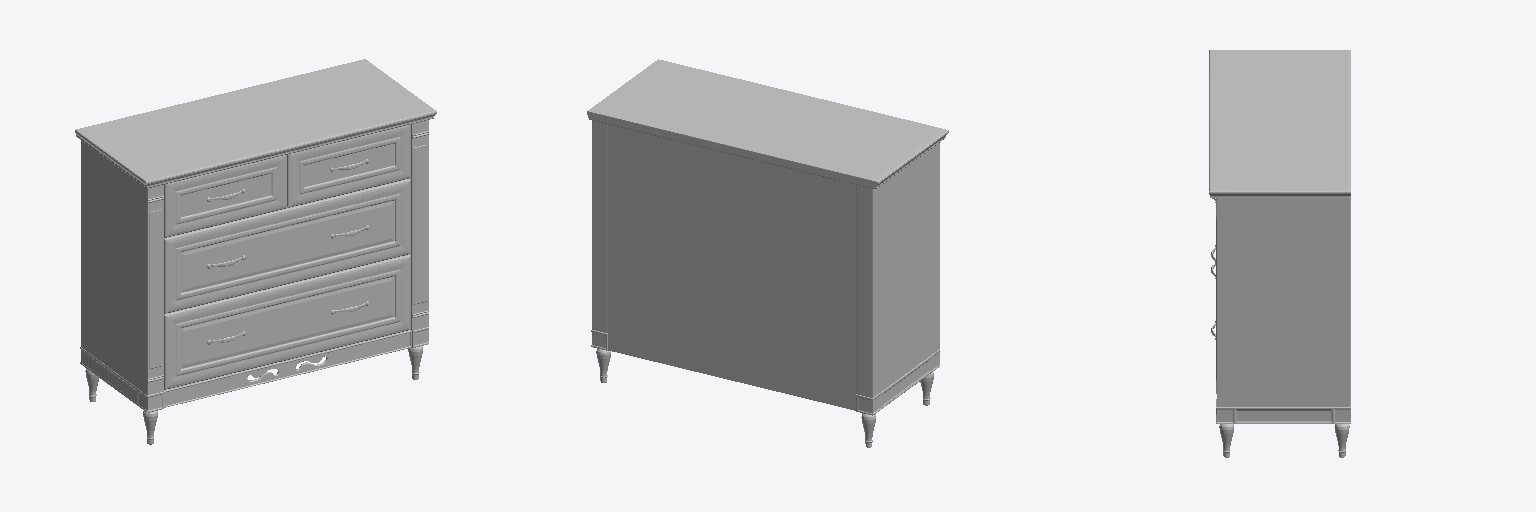
The model's file is uploads_files_2740235_Drawer_chest.obj.
The picture shows the model from 3 angles: view 1: azimuth 30°, elevation 25°; view 2: azimuth 150°, elevation 25°; view 3: azimuth 270°, elevation 25°; orthographic projection.
Parts seen in each view (by area): view 1: DrawerChest.001_Plane.003, Drawer_Down.001_Cube.055, Drawer_Mid.001_Cube.054, Drawer_Up_Right.001_Cube.052, Drawer_Up_Left.001_Cube.047; view 2: DrawerChest.001_Plane.003; view 3: DrawerChest.001_Plane.003.
Part boxes in pixels (x1,y1,x2,y2): DrawerChest.001_Plane.003: (75, 59, 436, 444); Drawer_Down.001_Cube.055: (164, 254, 410, 389); Drawer_Mid.001_Cube.054: (164, 178, 410, 313); Drawer_Up_Right.001_Cube.052: (287, 124, 410, 207); Drawer_Up_Left.001_Cube.047: (164, 155, 286, 237); DrawerChest.001_Plane.003: (587, 59, 948, 447); DrawerChest.001_Plane.003: (1209, 50, 1350, 457).
Bounding box in the file's own units: 1.07 × 0.95 × 0.4523.